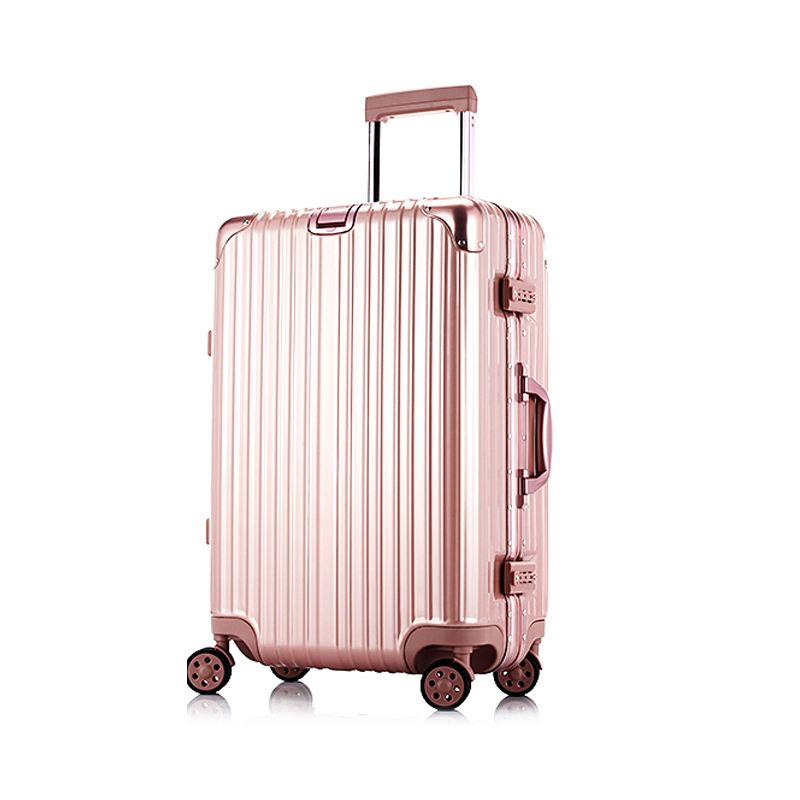box: (212, 197, 550, 674)
handle: (516, 362, 553, 510)
lock: (501, 276, 540, 315), (501, 561, 538, 595)
wheel: (420, 657, 471, 711), (187, 645, 235, 694), (493, 650, 541, 697)
